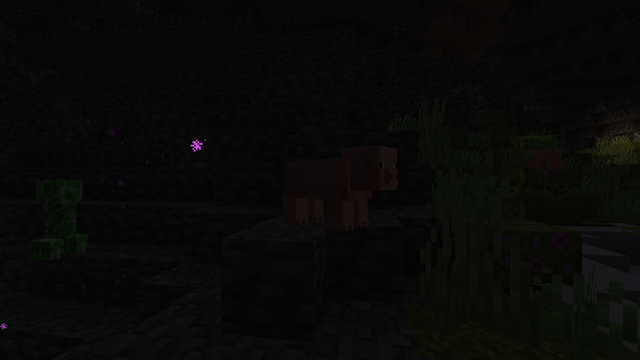cochons: (287, 156, 361, 232), (524, 148, 562, 165)
creepers: (31, 176, 85, 259)
